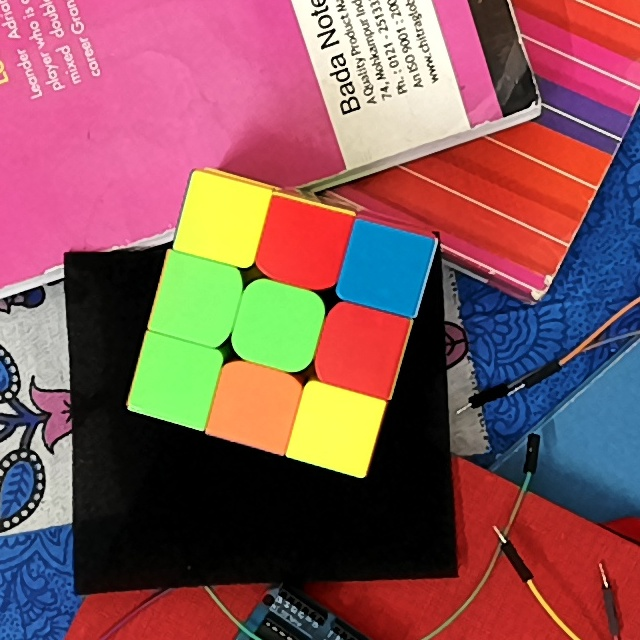tile: (245, 295, 309, 358), (272, 212, 335, 275), (144, 351, 206, 414), (222, 377, 285, 438), (355, 235, 417, 296), (167, 269, 228, 330), (191, 191, 254, 249), (332, 317, 392, 377), (308, 398, 366, 456)
